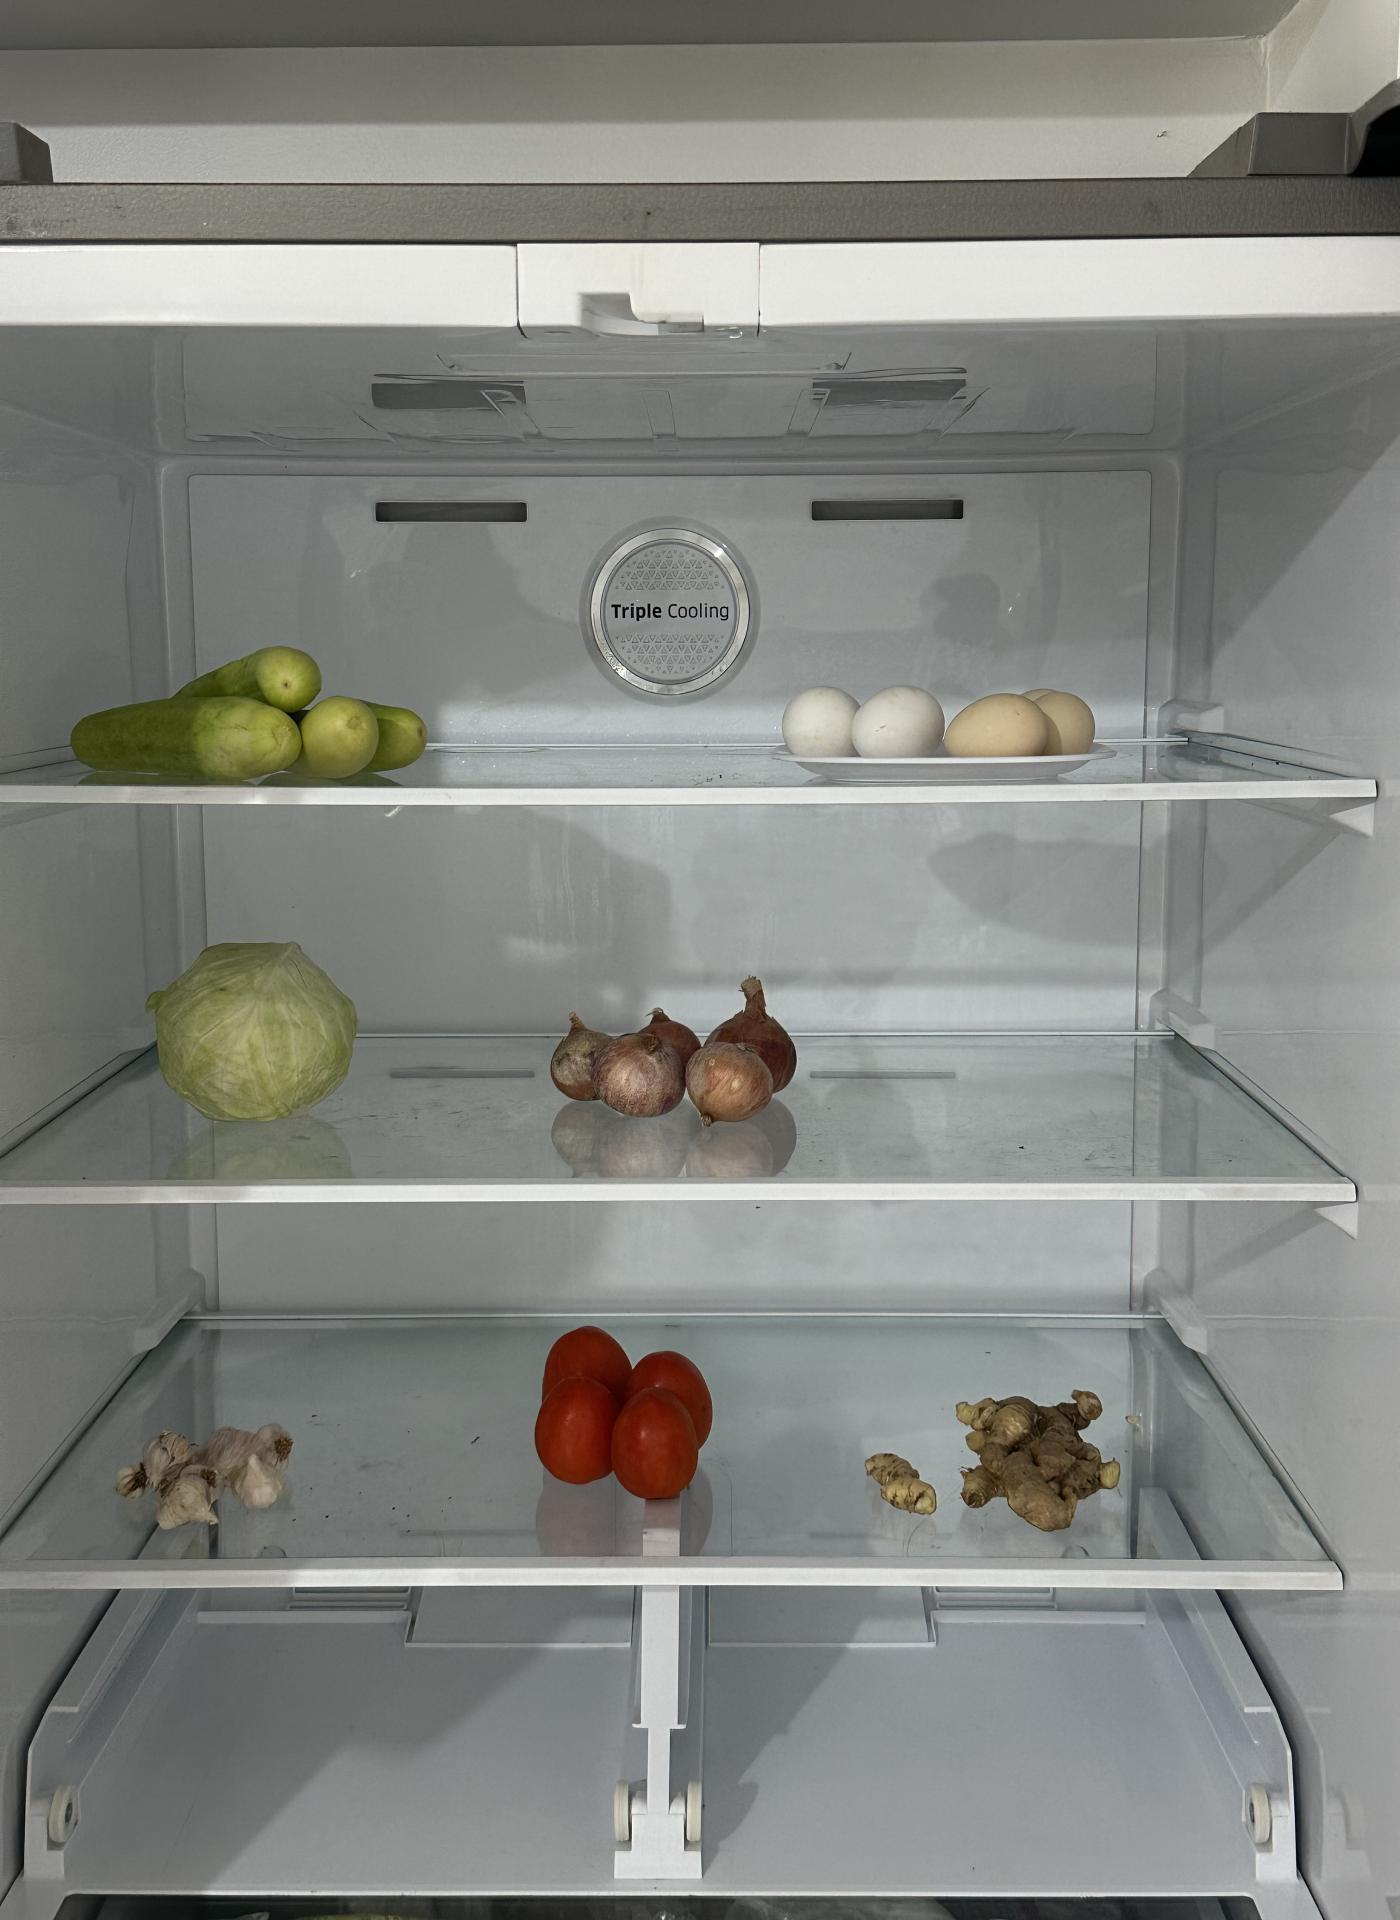cabbage: (146, 936, 353, 1125)
cucumber: (69, 638, 425, 790)
egg: (784, 675, 1094, 769)
garlic: (118, 1412, 297, 1532)
ginger: (868, 1380, 1120, 1531)
onion: (543, 979, 802, 1122)
tomato: (529, 1327, 719, 1504)
